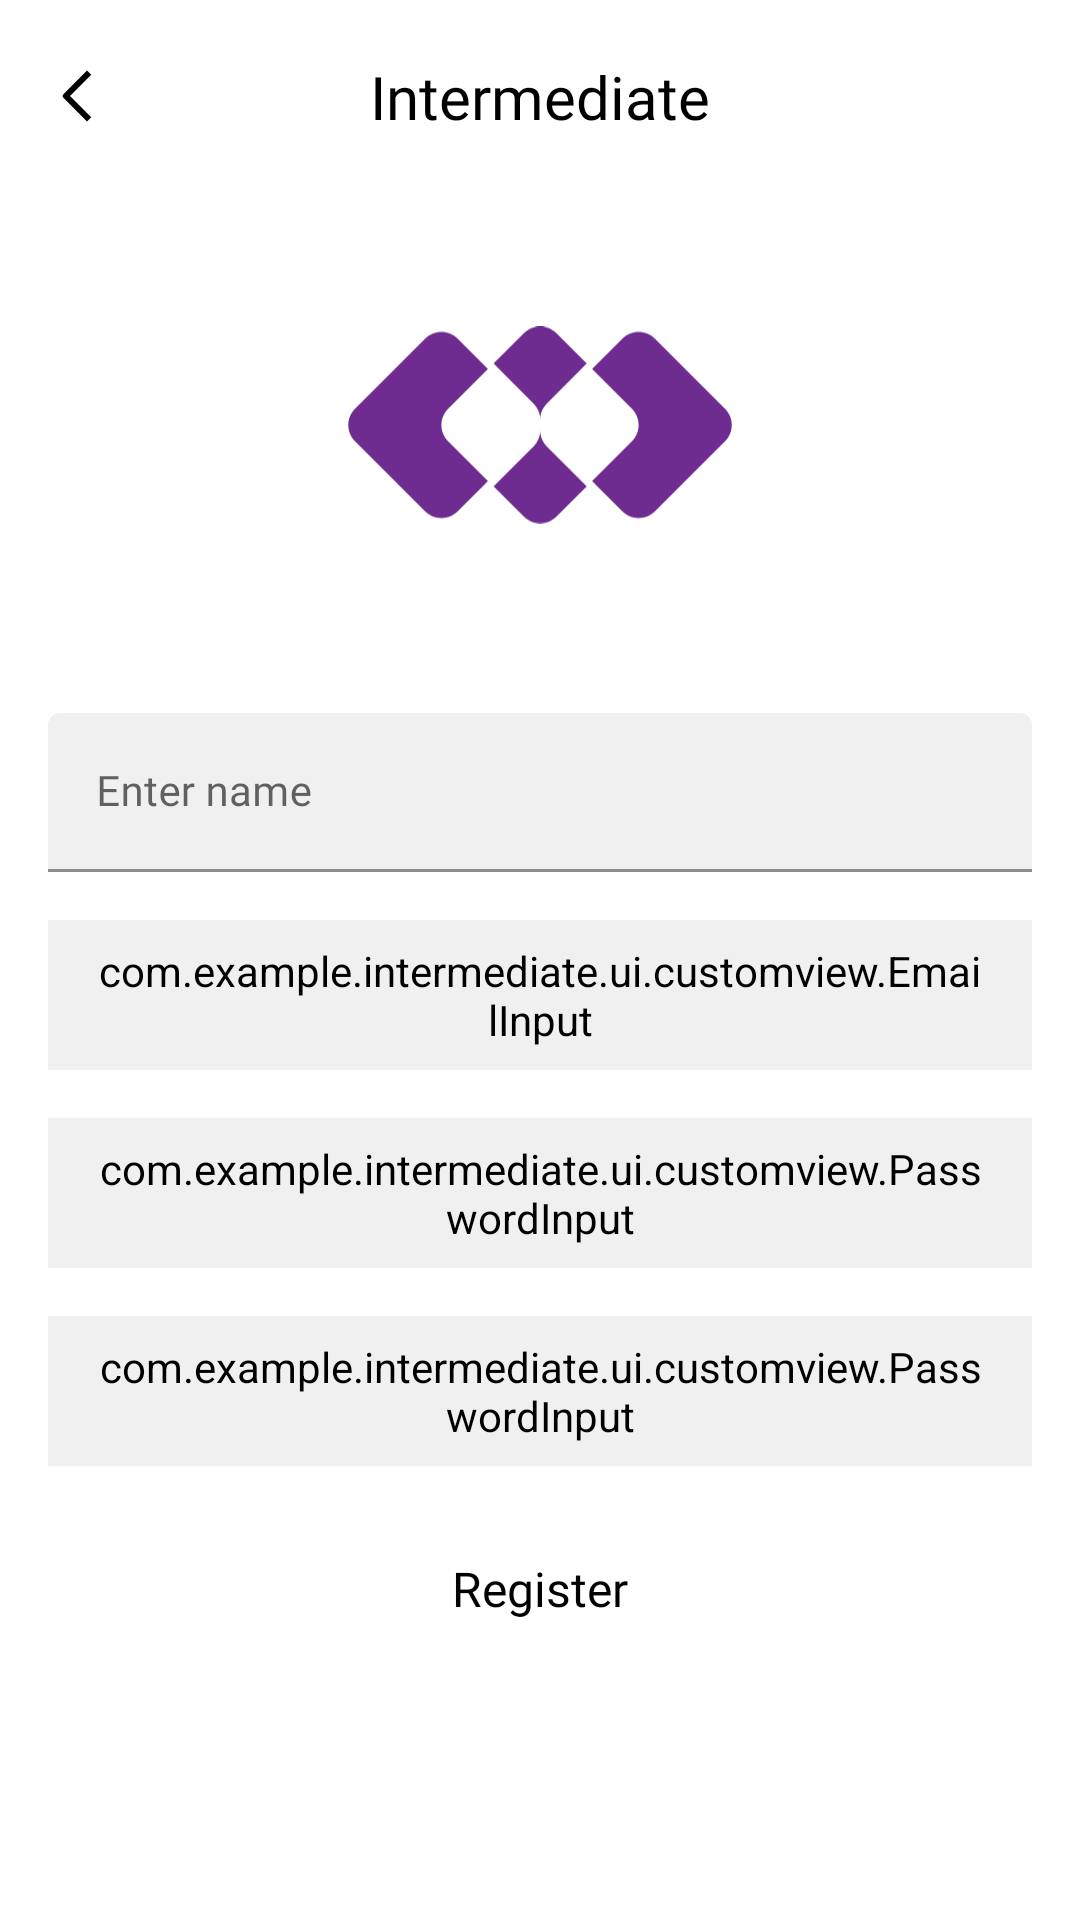

Screen size 1080*1920. Icon name, then its center in pixels as (x=x, y=y):
Back to previous menu: (x=76, y=96)
